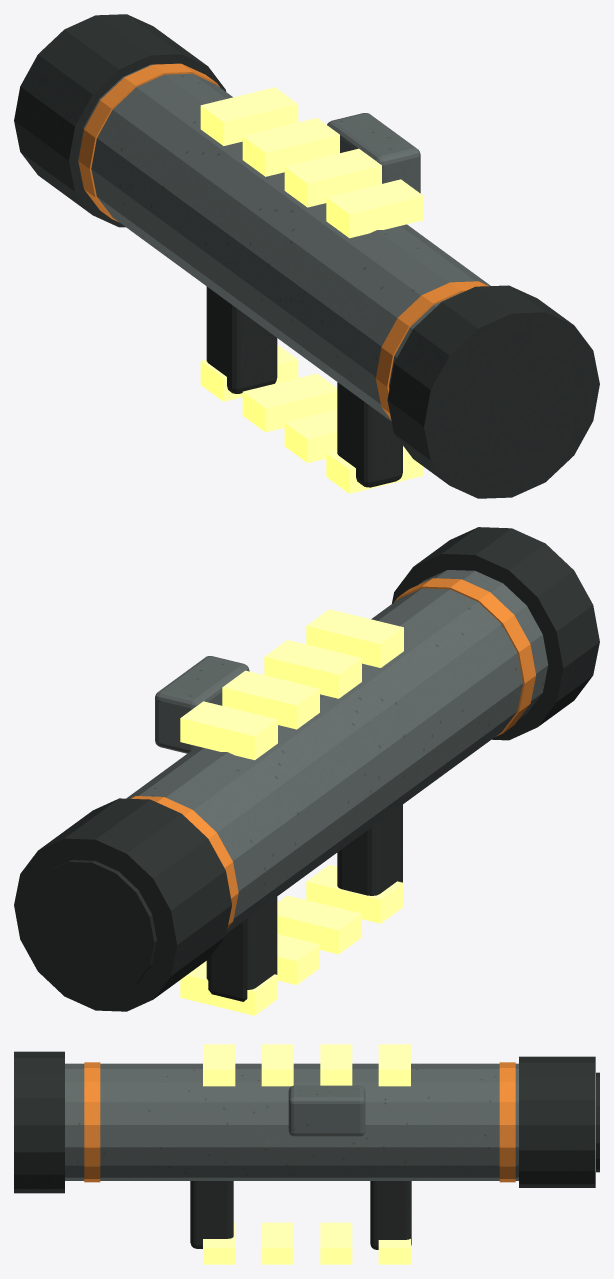
The model's file is rocket_4.glb.
3 views of the same model, one above another, from view 1: azimuth 30°, elevation 25°; view 2: azimuth 150°, elevation 25°; view 3: azimuth 270°, elevation 25° (orthographic). The views are drawn at different scales.
Visible parts, largest first — view 1: Weapon_rocket, GRADE_4_RAIL_0_1, GRADE_4_RAIL_3_1, GRADE_4_RAIL_1_1, GRADE_4_RAIL_2_1, GRADE_4_RAIL_2_-1, GRADE_4_RAIL_1_-1, GRADE_4_RAIL_0_-1, GRADE_4_RAIL_3_-1; view 2: Weapon_rocket, GRADE_4_RAIL_3_1, GRADE_4_RAIL_2_1, GRADE_4_RAIL_1_1, GRADE_4_RAIL_0_1, GRADE_4_RAIL_1_-1, GRADE_4_RAIL_0_-1, GRADE_4_RAIL_3_-1, GRADE_4_RAIL_2_-1; view 3: Weapon_rocket, GRADE_4_RAIL_0_1, GRADE_4_RAIL_1_-1, GRADE_4_RAIL_2_-1, GRADE_4_RAIL_3_1, GRADE_4_RAIL_1_1, GRADE_4_RAIL_2_1, GRADE_4_RAIL_0_-1, GRADE_4_RAIL_3_-1.
Part boxes in pixels (x1,y1,x2,y2): Weapon_rocket: (14, 14, 599, 498); GRADE_4_RAIL_0_1: (326, 179, 423, 238); GRADE_4_RAIL_3_1: (200, 87, 298, 145); GRADE_4_RAIL_1_1: (284, 148, 381, 207); GRADE_4_RAIL_2_1: (242, 118, 339, 176); GRADE_4_RAIL_2_-1: (242, 373, 337, 432); GRADE_4_RAIL_1_-1: (284, 409, 337, 463); GRADE_4_RAIL_0_-1: (326, 446, 423, 493); GRADE_4_RAIL_3_-1: (200, 344, 298, 401); Weapon_rocket: (14, 527, 599, 1011); GRADE_4_RAIL_3_1: (180, 701, 277, 760); GRADE_4_RAIL_2_1: (222, 670, 319, 729); GRADE_4_RAIL_1_1: (264, 640, 361, 698); GRADE_4_RAIL_0_1: (306, 609, 403, 667); GRADE_4_RAIL_1_-1: (277, 895, 361, 954); GRADE_4_RAIL_0_-1: (306, 865, 403, 923); GRADE_4_RAIL_3_-1: (180, 961, 277, 1015); GRADE_4_RAIL_2_-1: (277, 934, 319, 984); Weapon_rocket: (14, 1051, 599, 1249); GRADE_4_RAIL_0_1: (203, 1044, 235, 1086); GRADE_4_RAIL_1_-1: (261, 1222, 293, 1264); GRADE_4_RAIL_2_-1: (320, 1222, 352, 1264); GRADE_4_RAIL_3_1: (378, 1044, 410, 1086); GRADE_4_RAIL_1_1: (261, 1044, 293, 1086); GRADE_4_RAIL_2_1: (320, 1044, 352, 1085); GRADE_4_RAIL_0_-1: (203, 1222, 235, 1264); GRADE_4_RAIL_3_-1: (378, 1239, 410, 1264).
Size of the model in its own units: 0.2475 by 0.3371 by 0.917.
4 materials, 3 textured.
